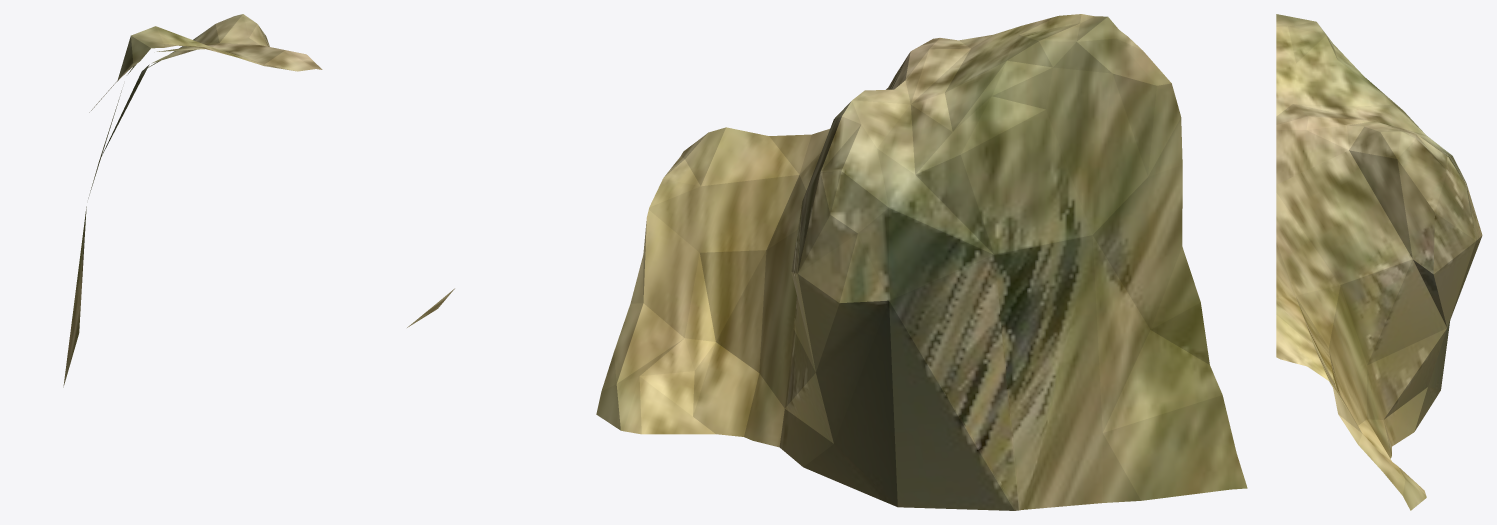
3 renders of one model, left to right at view 1: azimuth 30°, elevation 25°; view 2: azimuth 150°, elevation 25°; view 3: azimuth 270°, elevation 25°, orthographic. The views are drawn at different scales.
Size of the model in its own units: 2.25 by 1.67 by 0.9228.
Materials: 1 (1 with a texture image).
